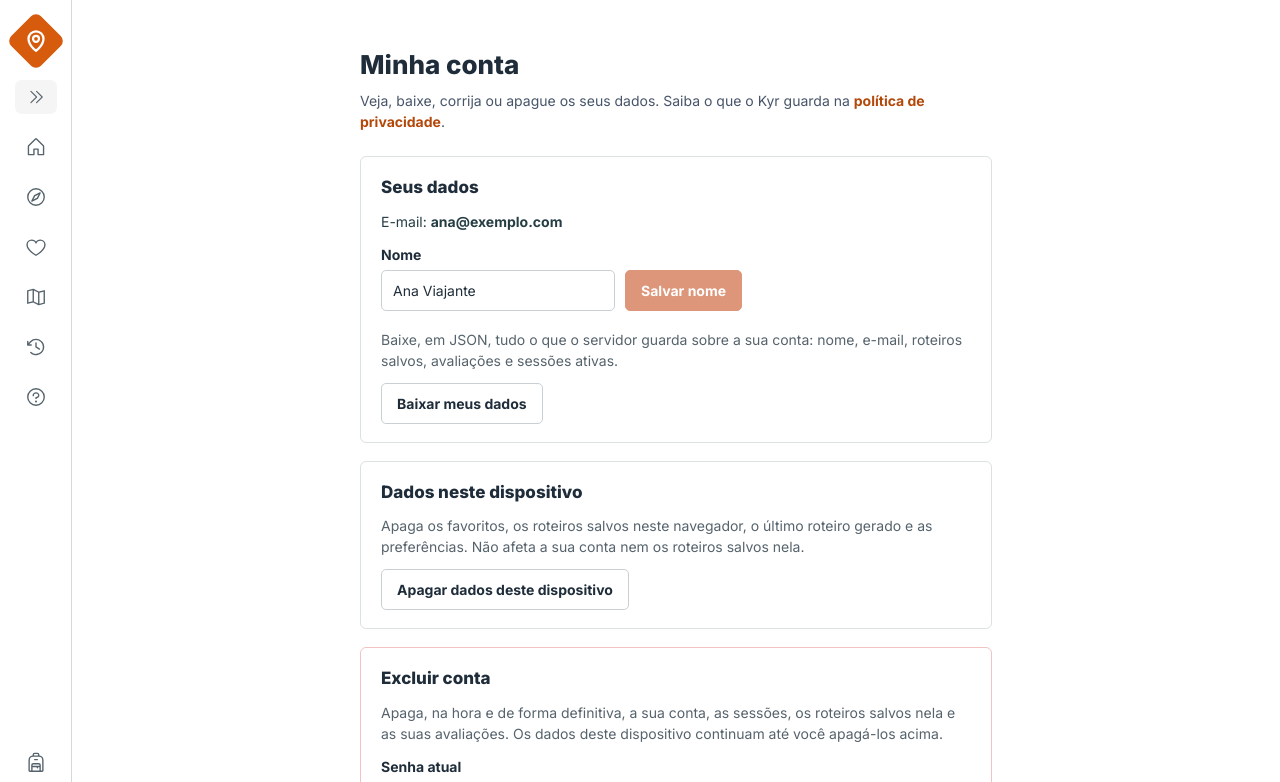
it: tela Minha conta › baixa os dados da conta como arquivo JSON
Expected: the text "ana@exemplo.com" is shown, [431,212,562,230]
Click the button "Baixar meus dados". click: (462, 403)
box: [381,382,543,424]
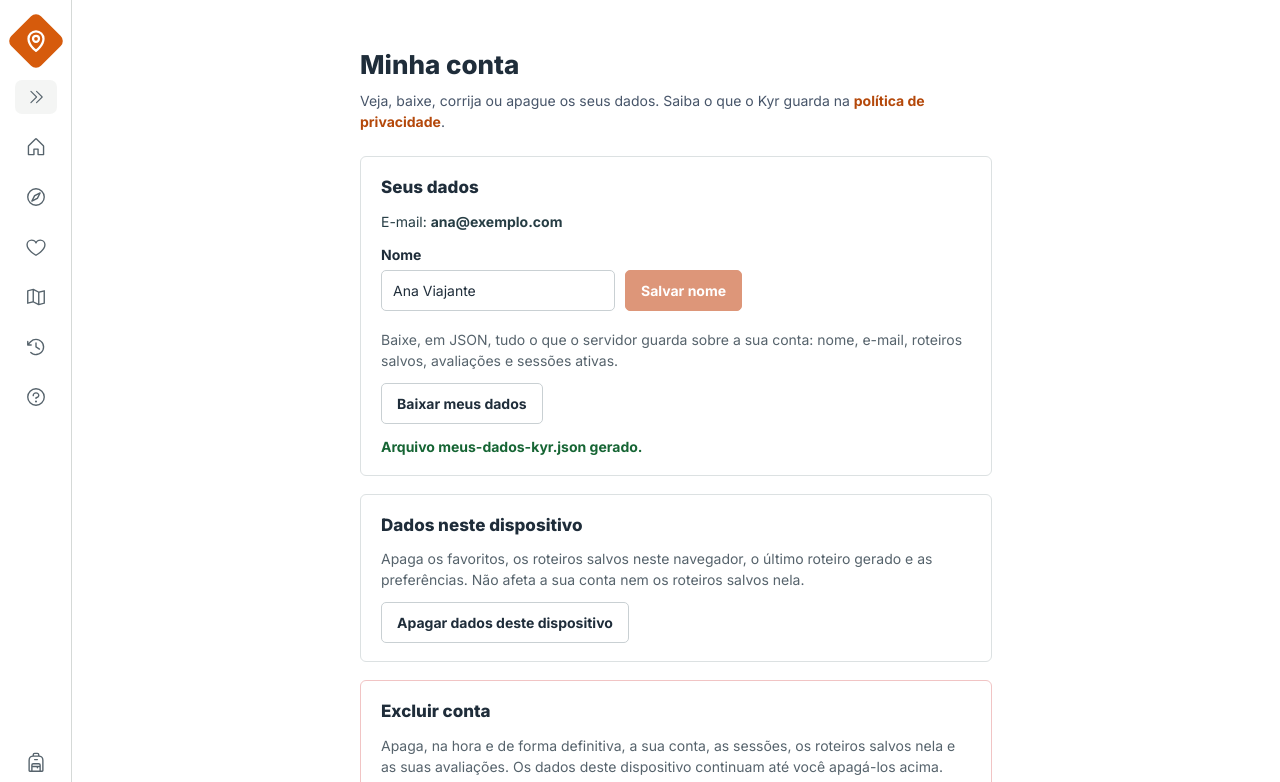
Expected: the text "Arquivo meus-dados-kyr.json gerado." is shown, [381,438,642,454]
